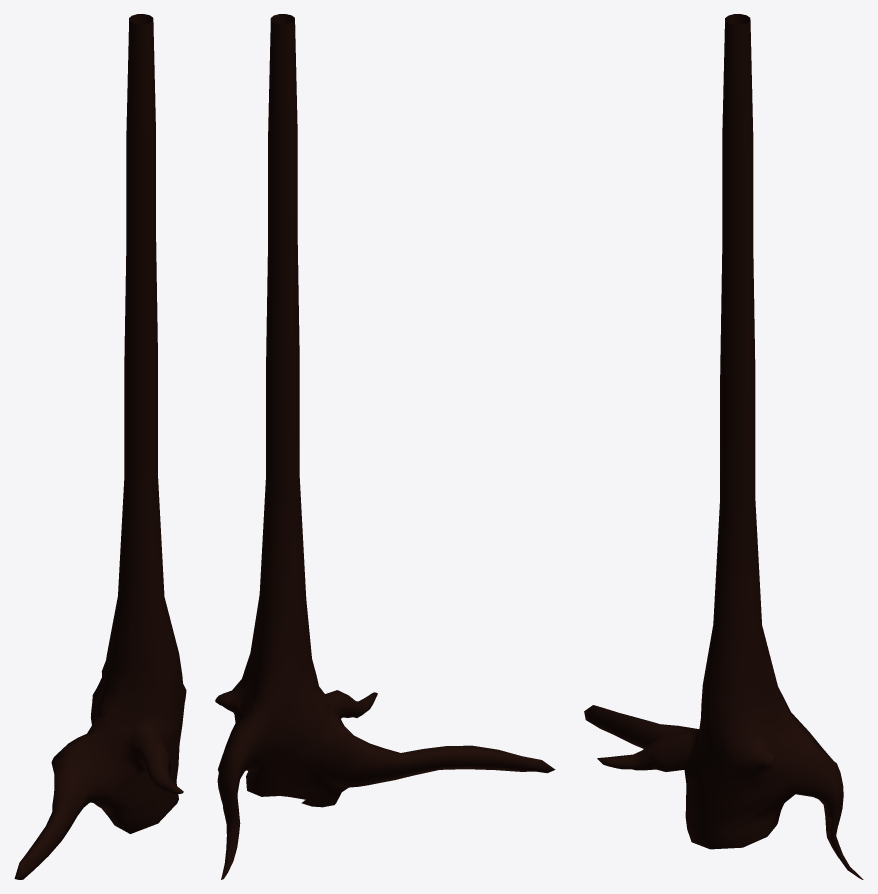
File: TallTree_TopRight.FBX
3 views of the same model, side by side, from view 1: azimuth 30°, elevation 25°; view 2: azimuth 150°, elevation 25°; view 3: azimuth 270°, elevation 25° (orthographic). The views are drawn at different scales.
Parts seen in each view (by area): view 1: Top Right; view 2: Top Right; view 3: Top Right.
Part boxes in pixels (x1,y1,x2,y2): Top Right: (14, 14, 186, 879); Top Right: (215, 14, 555, 879); Top Right: (584, 14, 863, 879).
Bounding box in the file's own units: 5310 × 16413 × 4842.
